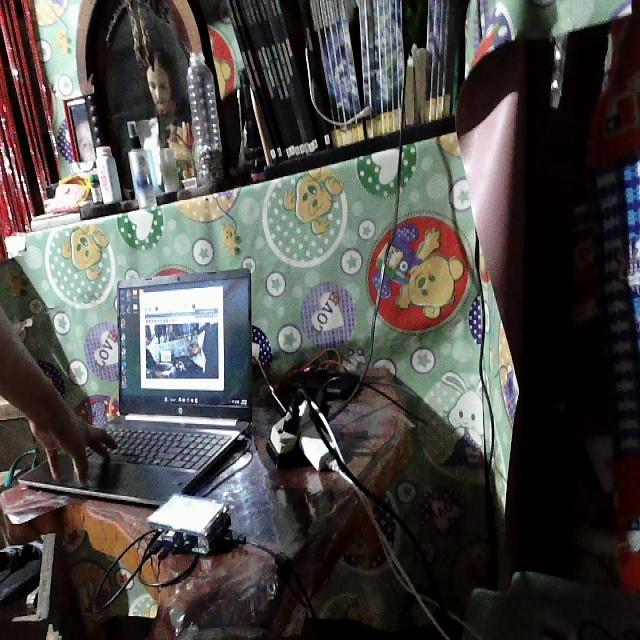-: (264, 371, 349, 477)
